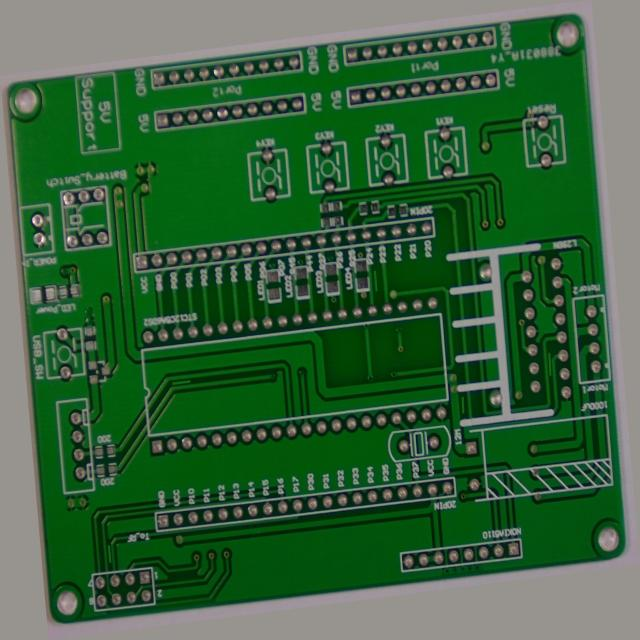spurious_copper: (377, 269, 390, 300), (153, 363, 177, 378), (67, 538, 79, 565), (557, 384, 566, 420), (461, 423, 471, 448)
